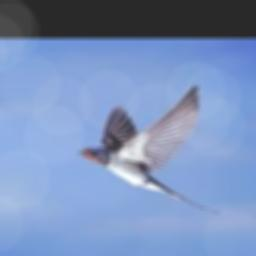Swallow: (78, 84, 220, 213)
